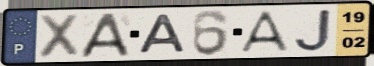6: (191, 8, 231, 57)
A: (78, 11, 133, 59), (237, 9, 292, 54), (137, 12, 189, 55)
J: (292, 7, 334, 53)
X: (36, 12, 82, 59)
